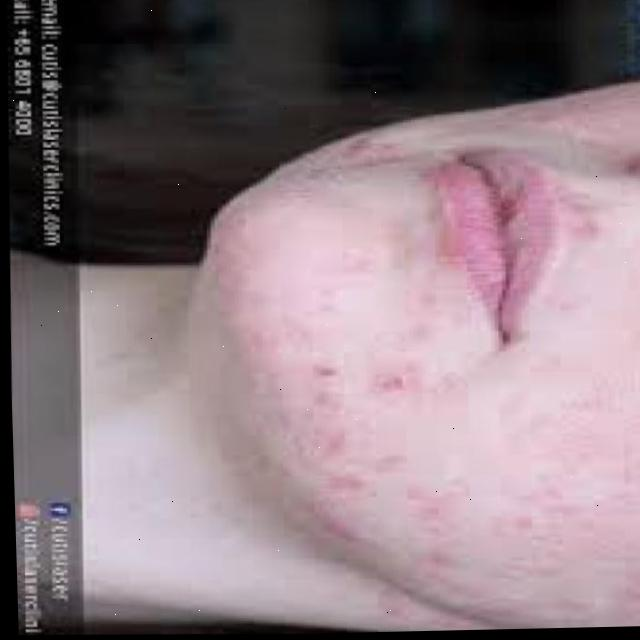Rosacea: (303, 356, 640, 628), (567, 77, 640, 137)
